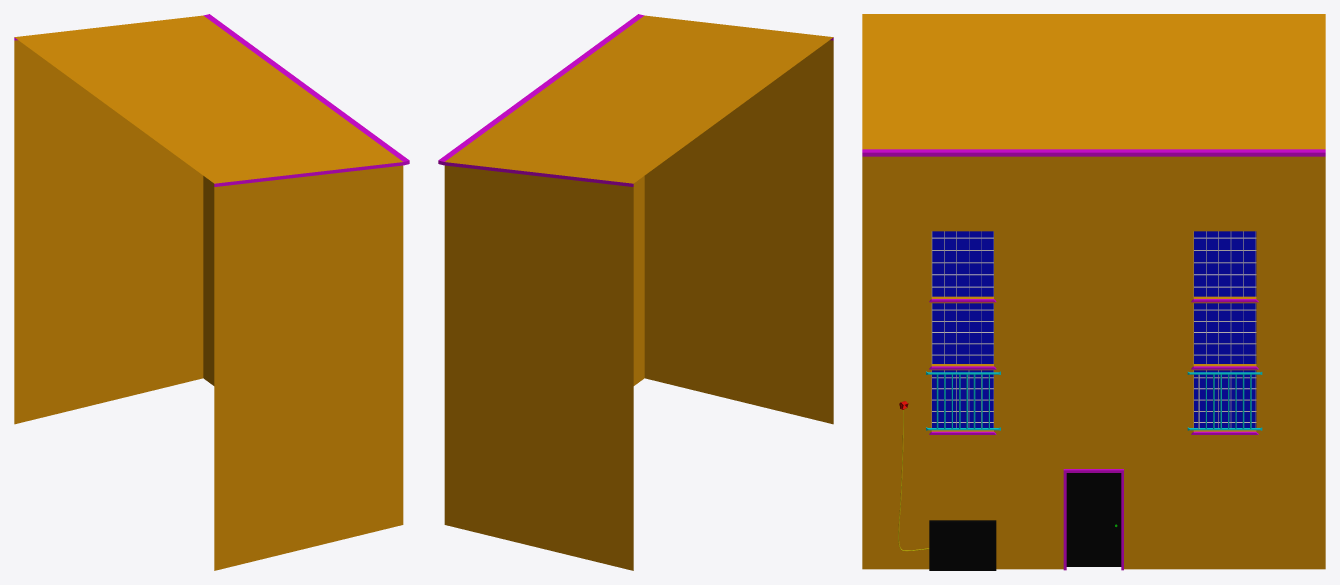
The model's file is Building B.fbx.
3 renders of one model, left to right at view 1: azimuth 30°, elevation 25°; view 2: azimuth 150°, elevation 25°; view 3: azimuth 270°, elevation 25°, orthographic. The views are drawn at different scales.
Visible parts, largest first — view 1: Building B.002; view 2: Building B.002; view 3: Building B.002.
Boxes of the visible parts, x1,y1,x2,y2 form: Building B.002: [14, 14, 409, 570]; Building B.002: [438, 14, 833, 570]; Building B.002: [862, 14, 1325, 570].
Bounding box in the file's own units: 6.24 × 11.74 × 11.
